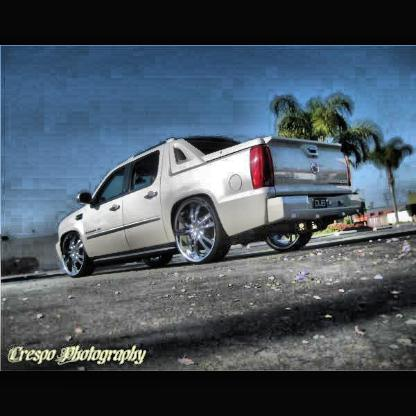Cadillac Escalade EXT Crew Cab 2007: (56, 133, 368, 280)
